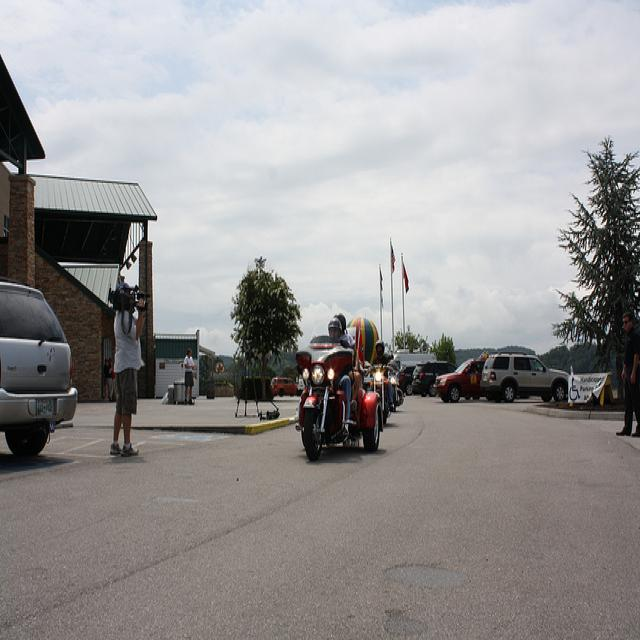motor: (296, 350, 383, 463), (365, 366, 393, 425), (388, 365, 406, 410)
